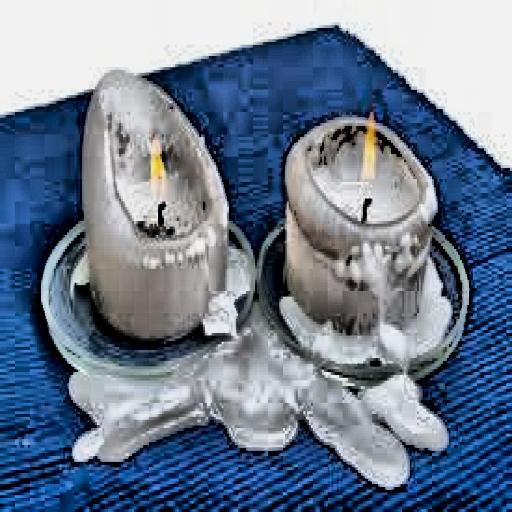fire: (354, 106, 385, 185), (145, 132, 175, 207)
